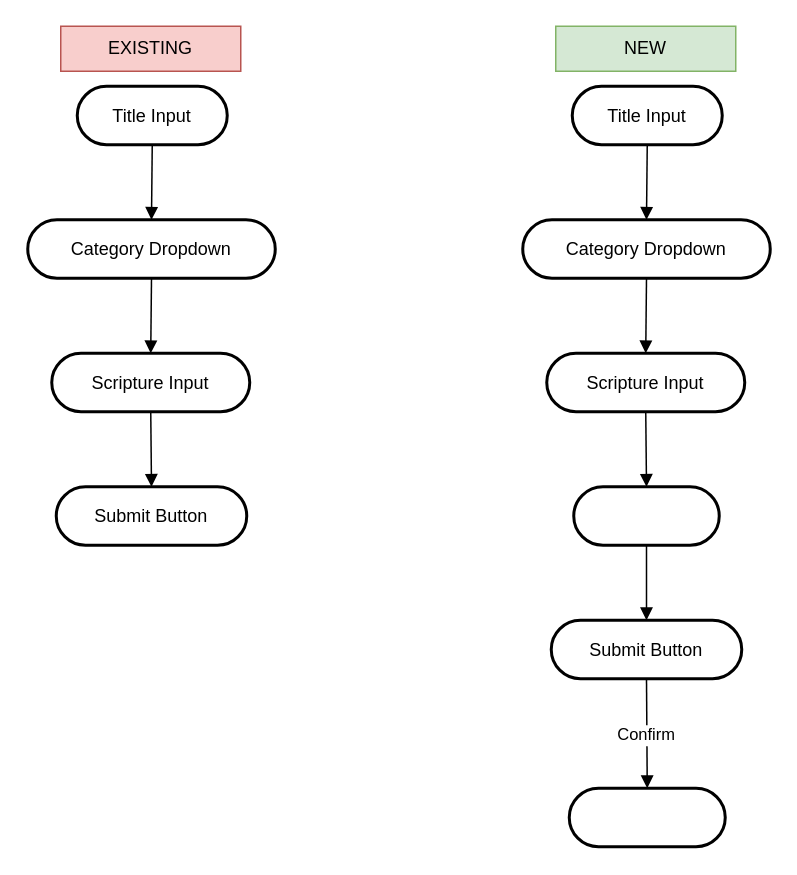
This 797x875 diagram has some shape labels left out. The shapes that lost their labels are listed below. From the top down, each one's centre as x and y in pixels, then its label:
At point 646,515: "Tags Input".
At point 646,817: "Home Page".
